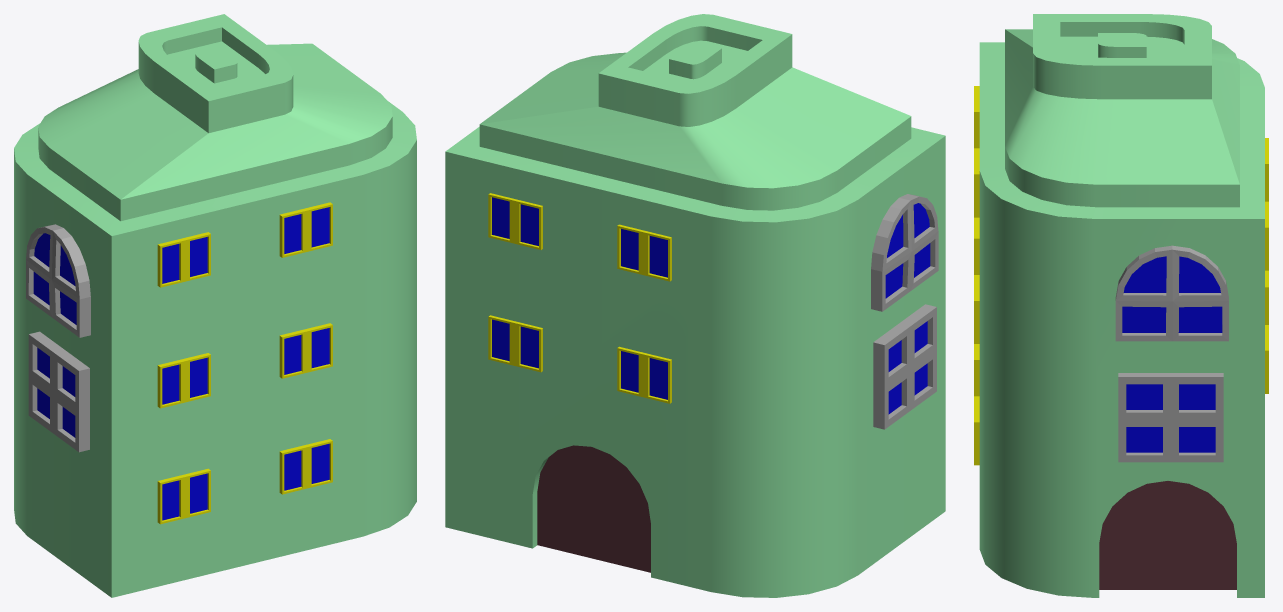
The picture shows the model from 3 angles, left to right: view 1: azimuth 30°, elevation 25°; view 2: azimuth 150°, elevation 25°; view 3: azimuth 270°, elevation 25°; orthographic projection. The views are drawn at different scales.
Parts seen in each view (by area): view 1: polySurface129, pCube129, pCube128, pCube119, pCube116, pCube118, pCube117, pCube120, pCube121; view 2: polySurface129, pCube129, pCube128, pCube130, pCube133, pCube132, pCube131; view 3: polySurface129, pCube127, pCube125, pCube120, pCube117, pCube118.
Part boxes in pixels (box(x1,y1,x2,y2)): polySurface129: box(14, 14, 416, 597); pCube129: box(28, 331, 89, 452); pCube128: box(26, 224, 90, 337); pCube119: box(157, 353, 210, 408); pCube116: box(157, 232, 210, 287); pCube118: box(279, 323, 332, 378); pCube117: box(279, 202, 332, 257); pCube120: box(279, 439, 332, 494); pCube121: box(157, 468, 210, 524); polySurface129: box(445, 14, 945, 597); pCube129: box(873, 304, 936, 429); pCube128: box(871, 194, 938, 311); pCube130: box(488, 315, 542, 372); pCube133: box(488, 193, 542, 249); pCube132: box(617, 224, 671, 281); pCube131: box(617, 346, 671, 403); polySurface129: box(979, 14, 1264, 597); pCube127: box(1115, 245, 1228, 341); pCube125: box(1118, 373, 1223, 462); pCube120: box(974, 396, 979, 465); pCube117: box(974, 148, 979, 217); pCube118: box(974, 275, 979, 343).
Size of the model in its own units: 5334 by 6204 by 3530.
